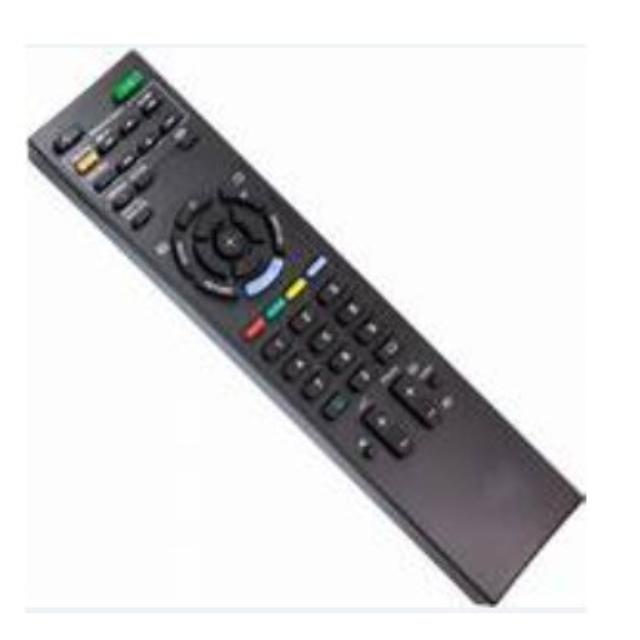TV-Remote-Control: (29, 50, 586, 607)
